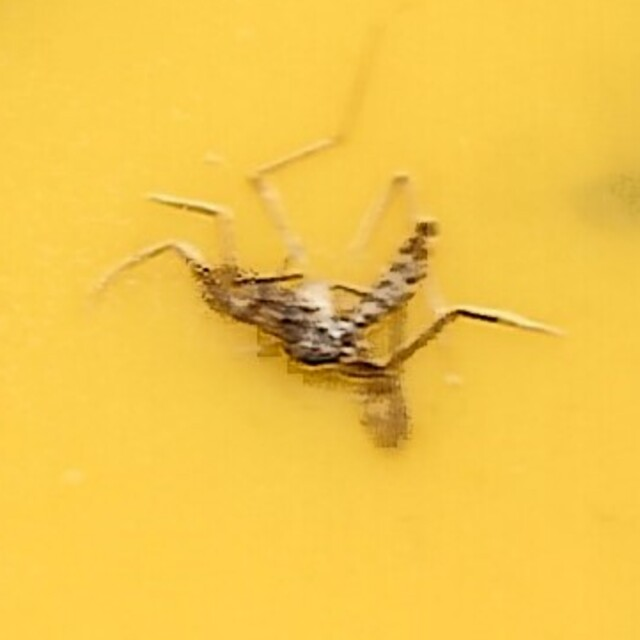Nematocera: (177, 189, 463, 451)
